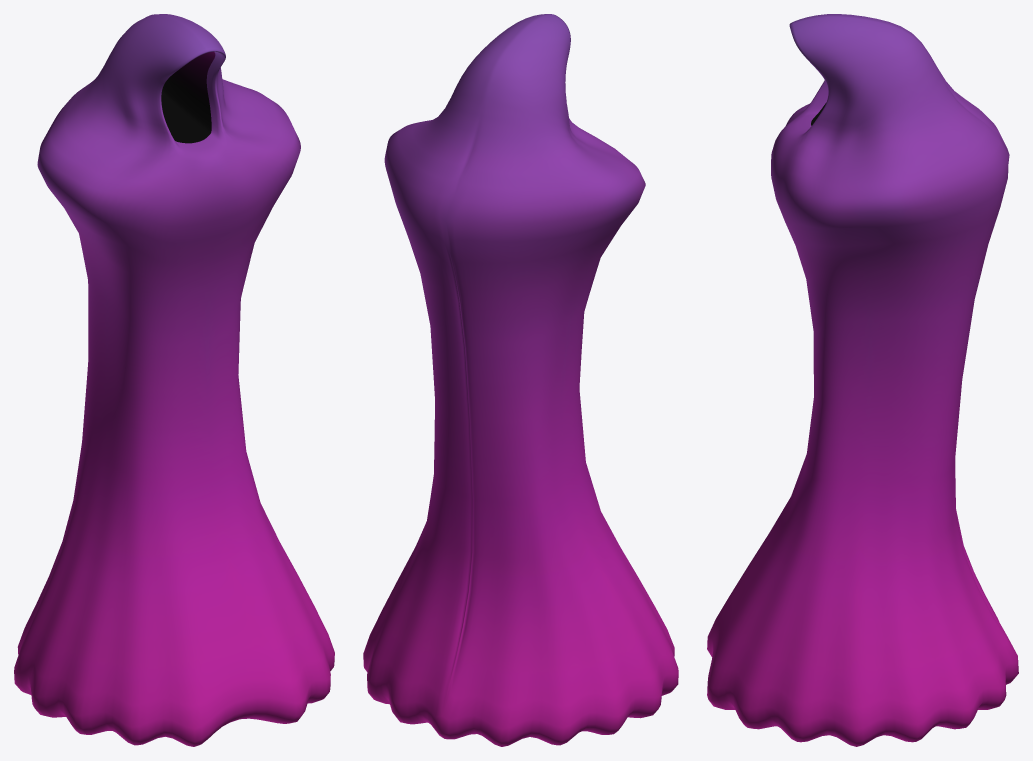
File: Tänzer3.glb
The picture shows the model from 3 angles, left to right: view 1: azimuth 30°, elevation 25°; view 2: azimuth 150°, elevation 25°; view 3: azimuth 270°, elevation 25°; orthographic projection.
Visible parts, largest first — view 1: MaskedOne; view 2: MaskedOne; view 3: MaskedOne.
Part boxes in pixels (<box>): MaskedOne: <box>14,14,334,746</box>; MaskedOne: <box>363,14,678,746</box>; MaskedOne: <box>707,14,1018,746</box>.
Bounding box in the file's own units: 0.4214 × 0.9598 × 0.4041.
Materials: 1 (1 with a texture image).
